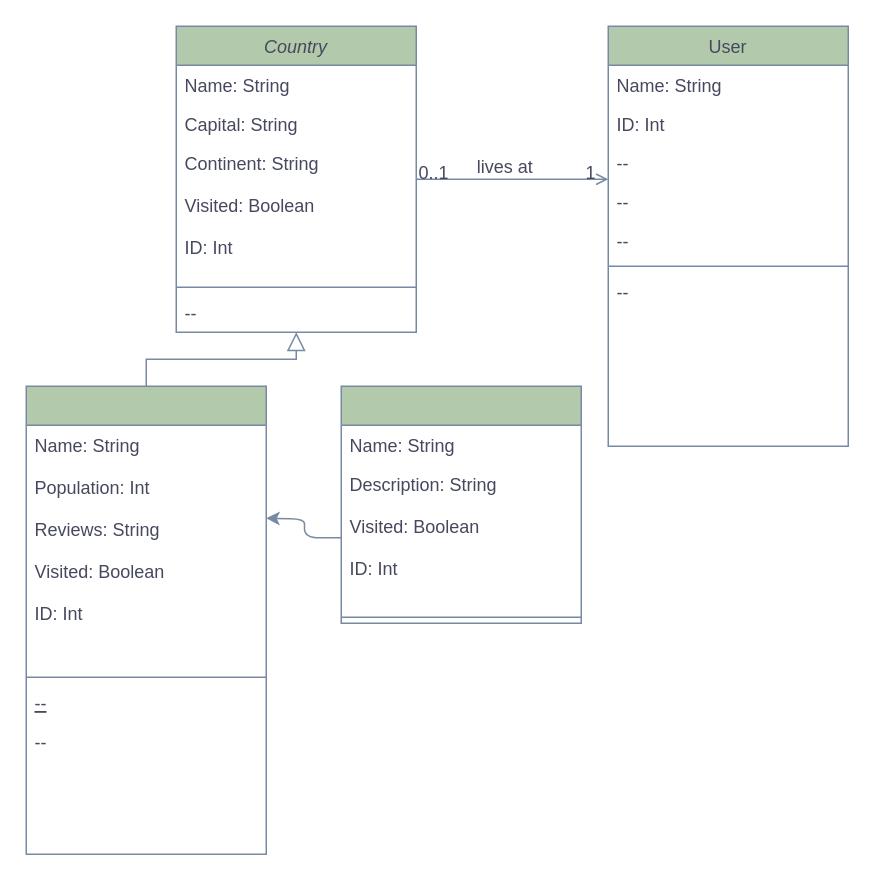
The diagram is 875 pixels wide and 885 high, and some of its shapes have lost their labels. Each missing label, with the box of its shape:
City: (25, 385, 266, 854)
Sight: (340, 385, 581, 623)
